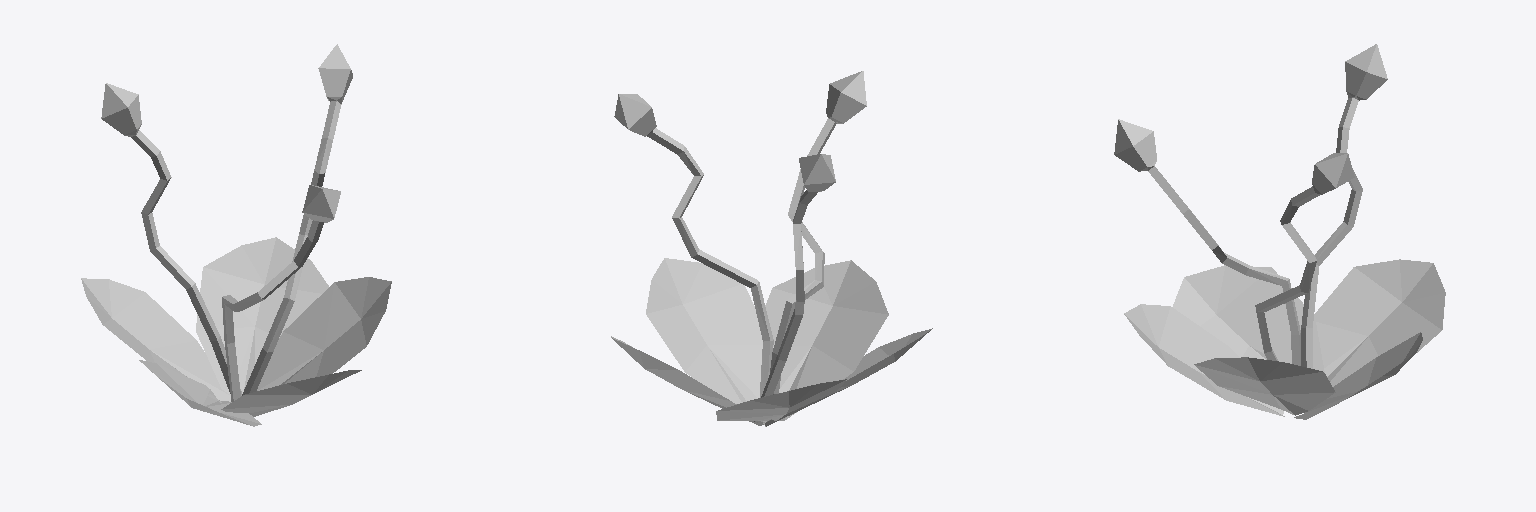
File: Plant 1.obj
3 renders of one model, left to right at view 1: azimuth 30°, elevation 25°; view 2: azimuth 150°, elevation 25°; view 3: azimuth 270°, elevation 25°, orthographic.
Visible parts, largest first — view 1: Plant_1_Plane.001; view 2: Plant_1_Plane.001; view 3: Plant_1_Plane.001.
Part boxes in pixels (left/top/right/bottom): Plant_1_Plane.001: left=81, top=44, right=391, bottom=426; Plant_1_Plane.001: left=611, top=71, right=932, bottom=426; Plant_1_Plane.001: left=1114, top=44, right=1445, bottom=419.
Bounding box in the file's own units: 0.9975 × 1.23 × 1.14.